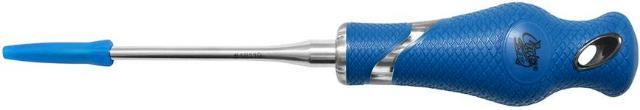ice pick: (2, 3, 640, 107)
